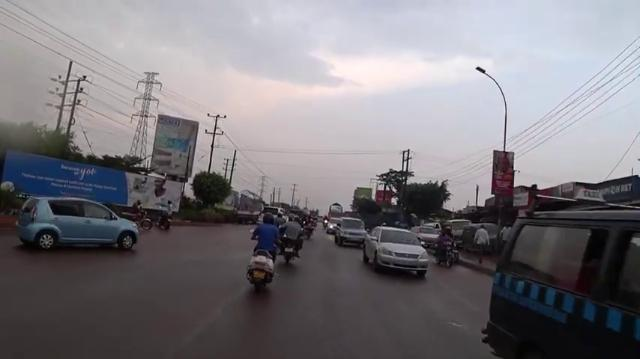car: (17, 194, 141, 255), (364, 221, 431, 277), (337, 217, 367, 249)
motorcycle: (245, 211, 283, 295), (282, 214, 305, 272), (122, 199, 154, 234), (437, 223, 457, 272), (157, 197, 175, 235)
van: (480, 187, 639, 359)
